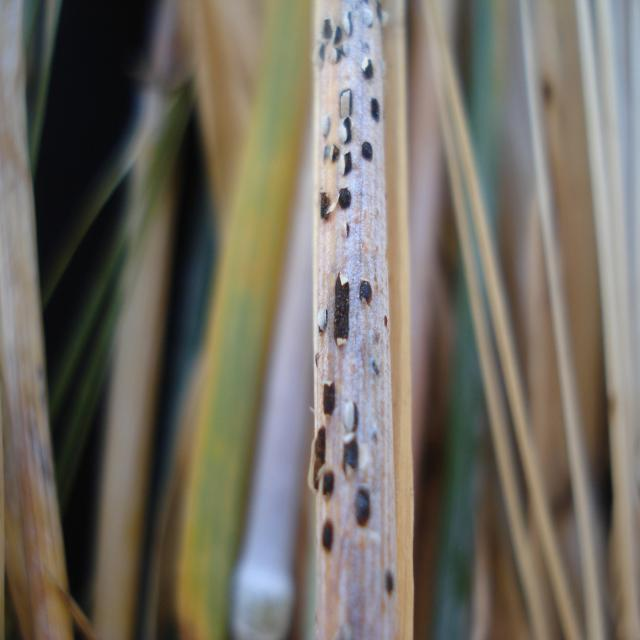wheat-stemrust: (294, 0, 405, 640)
